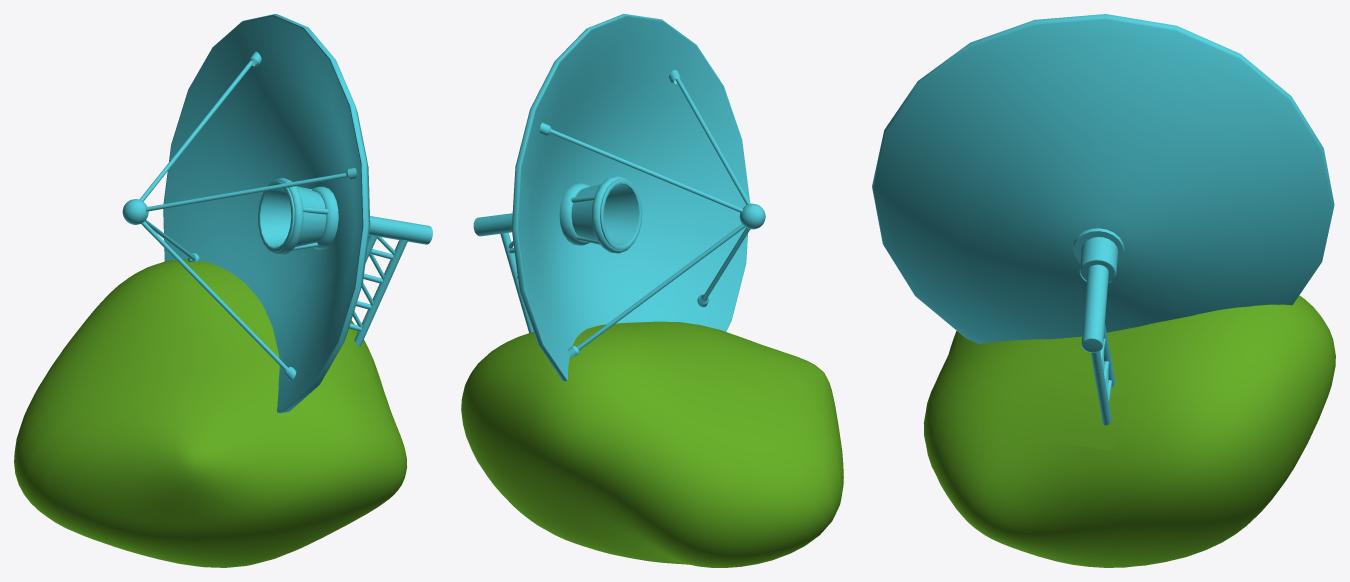
The model's file is sputnik.fbx.
3 views of the same model, side by side, from view 1: azimuth 30°, elevation 25°; view 2: azimuth 150°, elevation 25°; view 3: azimuth 270°, elevation 25° (orthographic). The views are drawn at different scales.
Visible parts, largest first — view 1: polySurface12; view 2: polySurface12; view 3: polySurface12.
Boxes of the visible parts, bbox=[...] form: polySurface12: bbox=[14, 14, 432, 567]; polySurface12: bbox=[461, 14, 843, 567]; polySurface12: bbox=[872, 14, 1335, 567].
Size of the model in its own units: 372 by 475 by 345.
